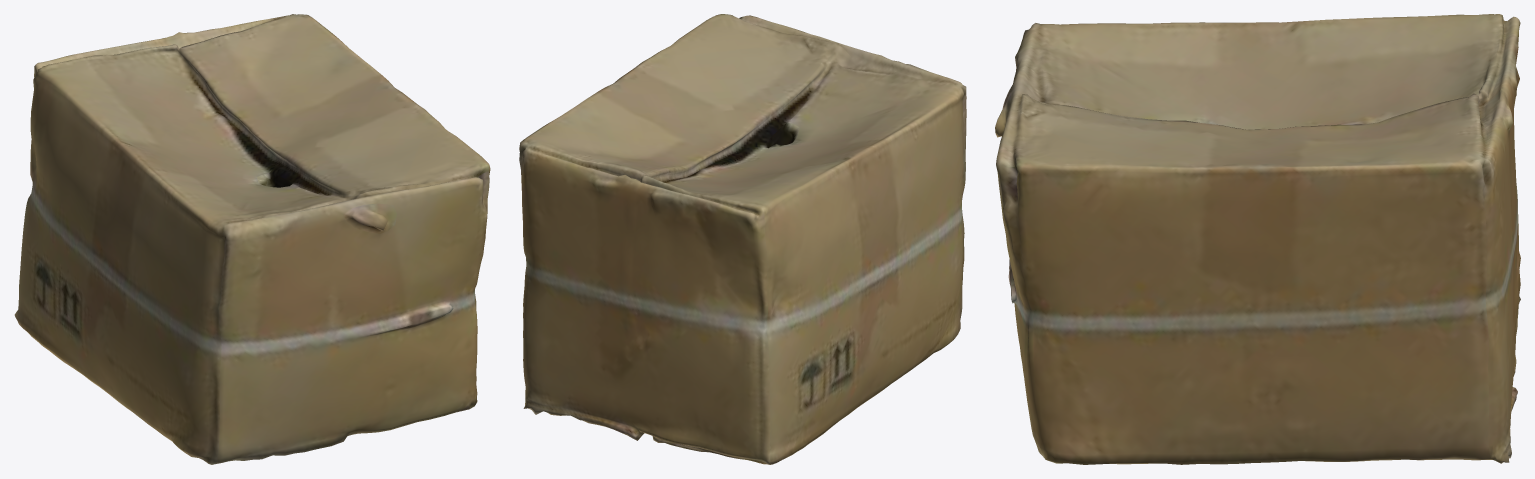
Rendered from cardboard_box.glb.
3 views of the same model, side by side, from view 1: azimuth 30°, elevation 25°; view 2: azimuth 150°, elevation 25°; view 3: azimuth 270°, elevation 25° (orthographic). The views are drawn at different scales.
Parts seen in each view (by area): view 1: cardboard_box_01; view 2: cardboard_box_01; view 3: cardboard_box_01.
Boxes of the visible parts, bbox=[...] form: cardboard_box_01: bbox=[14, 14, 490, 464]; cardboard_box_01: bbox=[519, 14, 966, 464]; cardboard_box_01: bbox=[995, 14, 1520, 464].
Size of the model in its own units: 0.387 by 0.3418 by 0.5159.
1 material, 1 textured.
